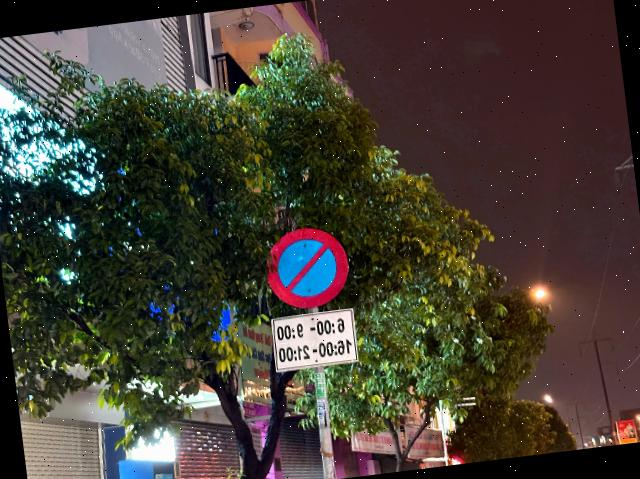cam-do-xe: (261, 221, 354, 312)
